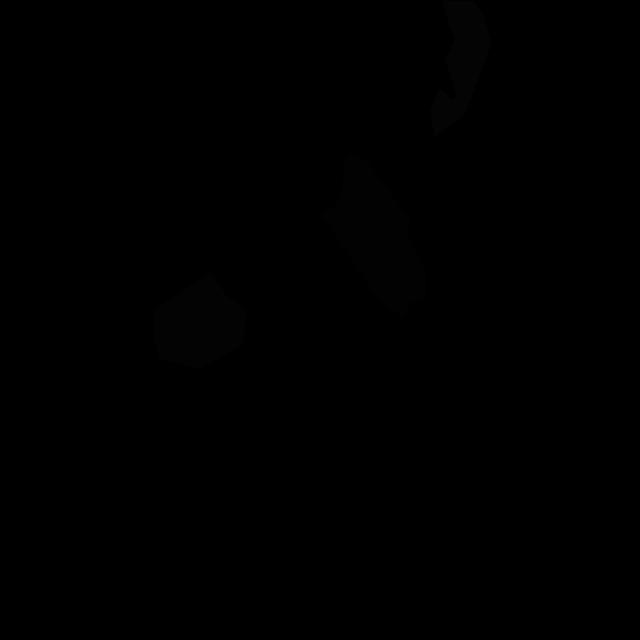cardboard: (320, 153, 426, 319)
metal: (154, 273, 246, 369)
soft_plastic: (430, 0, 492, 136)
